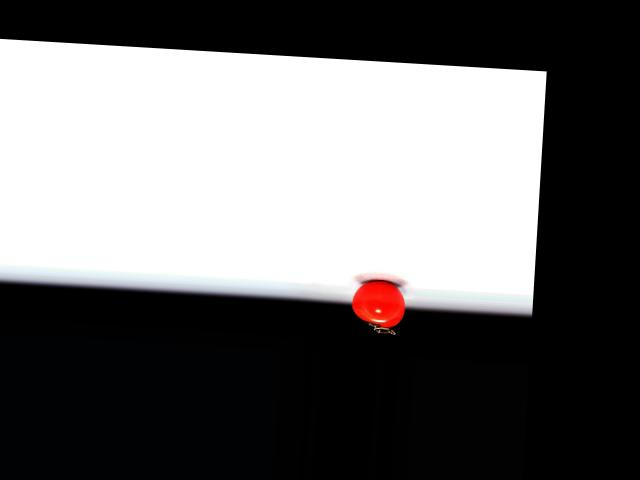tomato: (349, 278, 406, 328)
